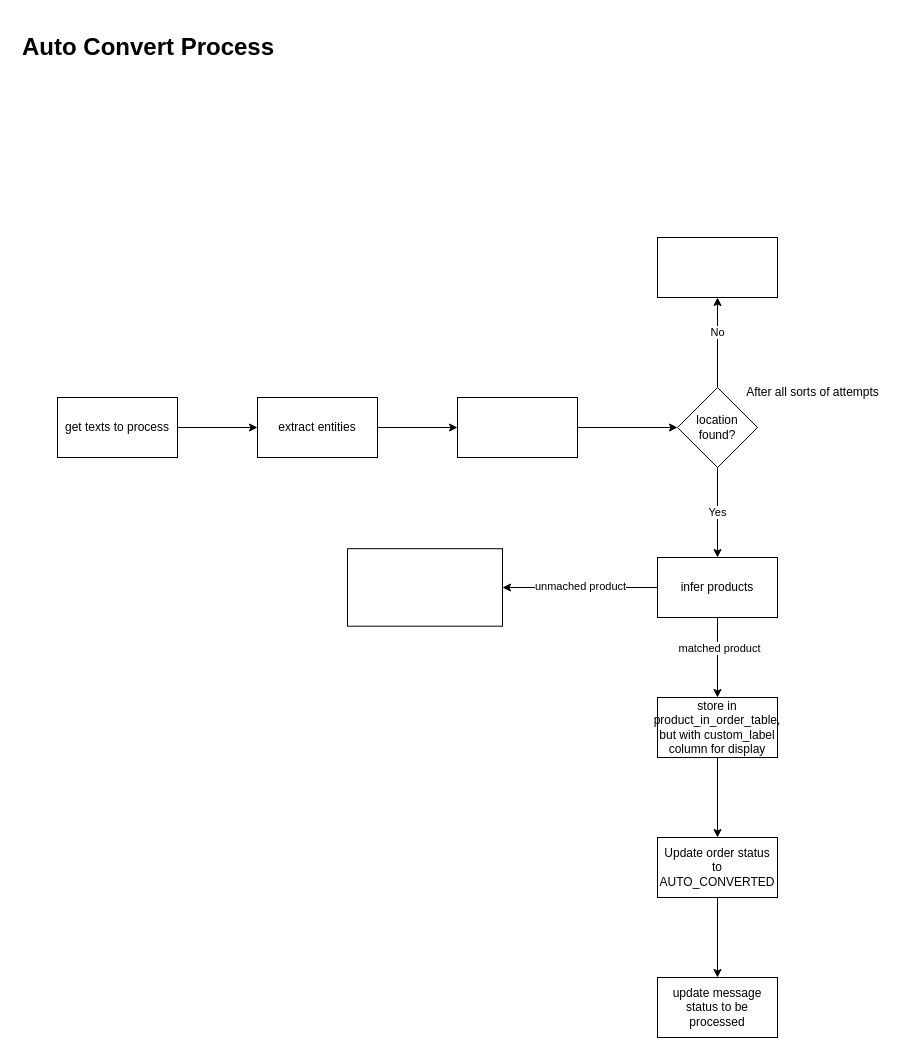
Some shapes in this 909 by 1055 pixel diagram are drawn without their labels. Here are the shapes that lost their labels. From the top down, the box of each, then its label:
(656, 236, 778, 298): Find a random order guide in the organization?
(456, 396, 578, 458): infer location base on extracted location and phone
(346, 548, 502, 626): Store unmatched extracted entities in a new column in order, unmached_entities
